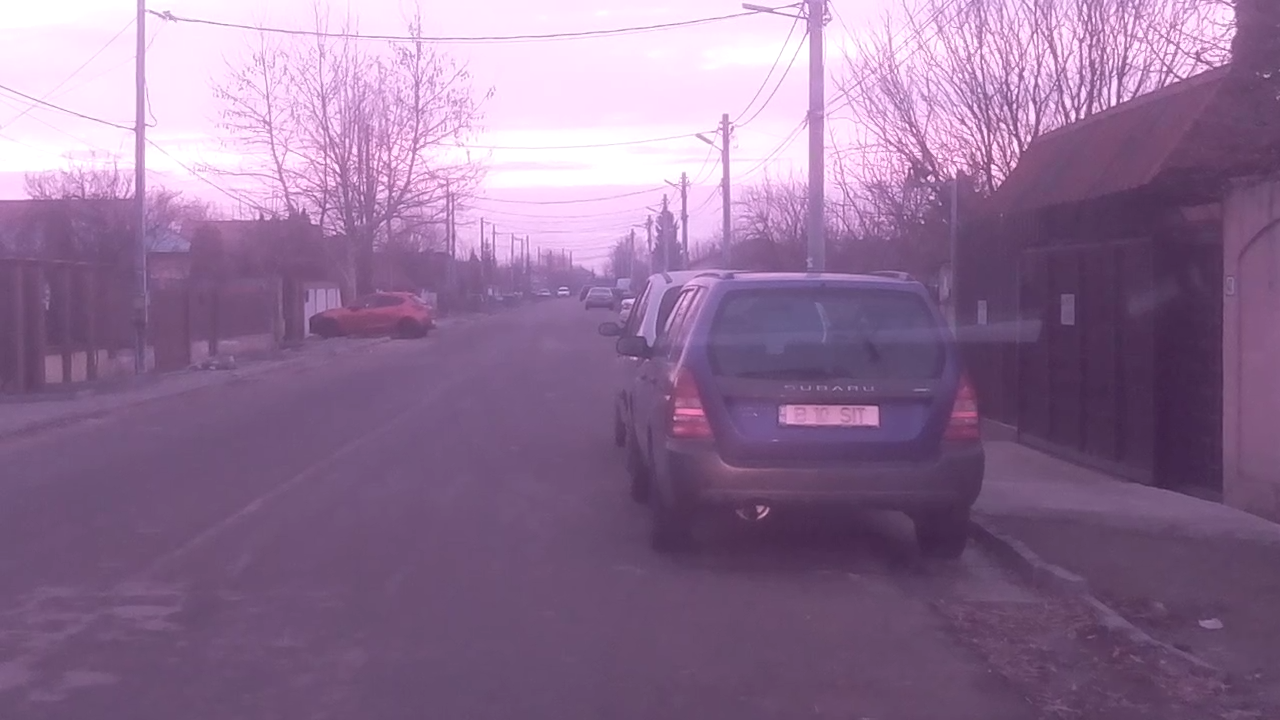license-plate: (778, 403, 881, 429)
